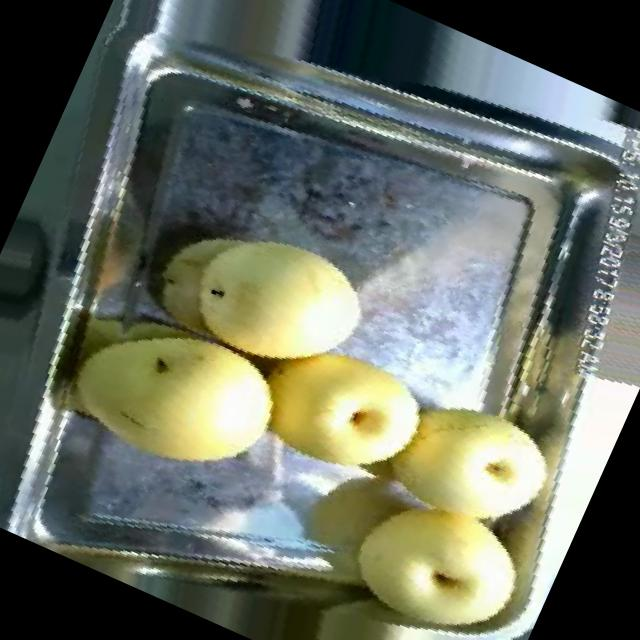Fruit: (27, 288, 306, 526), (126, 174, 400, 402), (310, 451, 555, 640), (226, 300, 454, 498)
